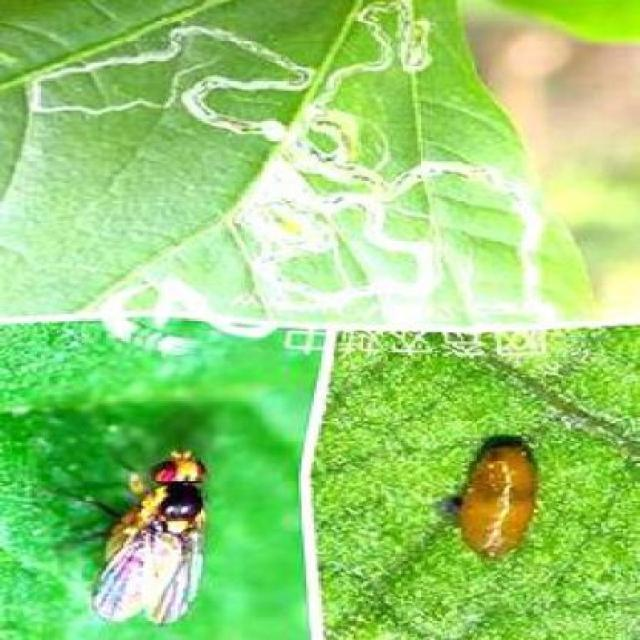whorl-maggot: (448, 435, 549, 560)
